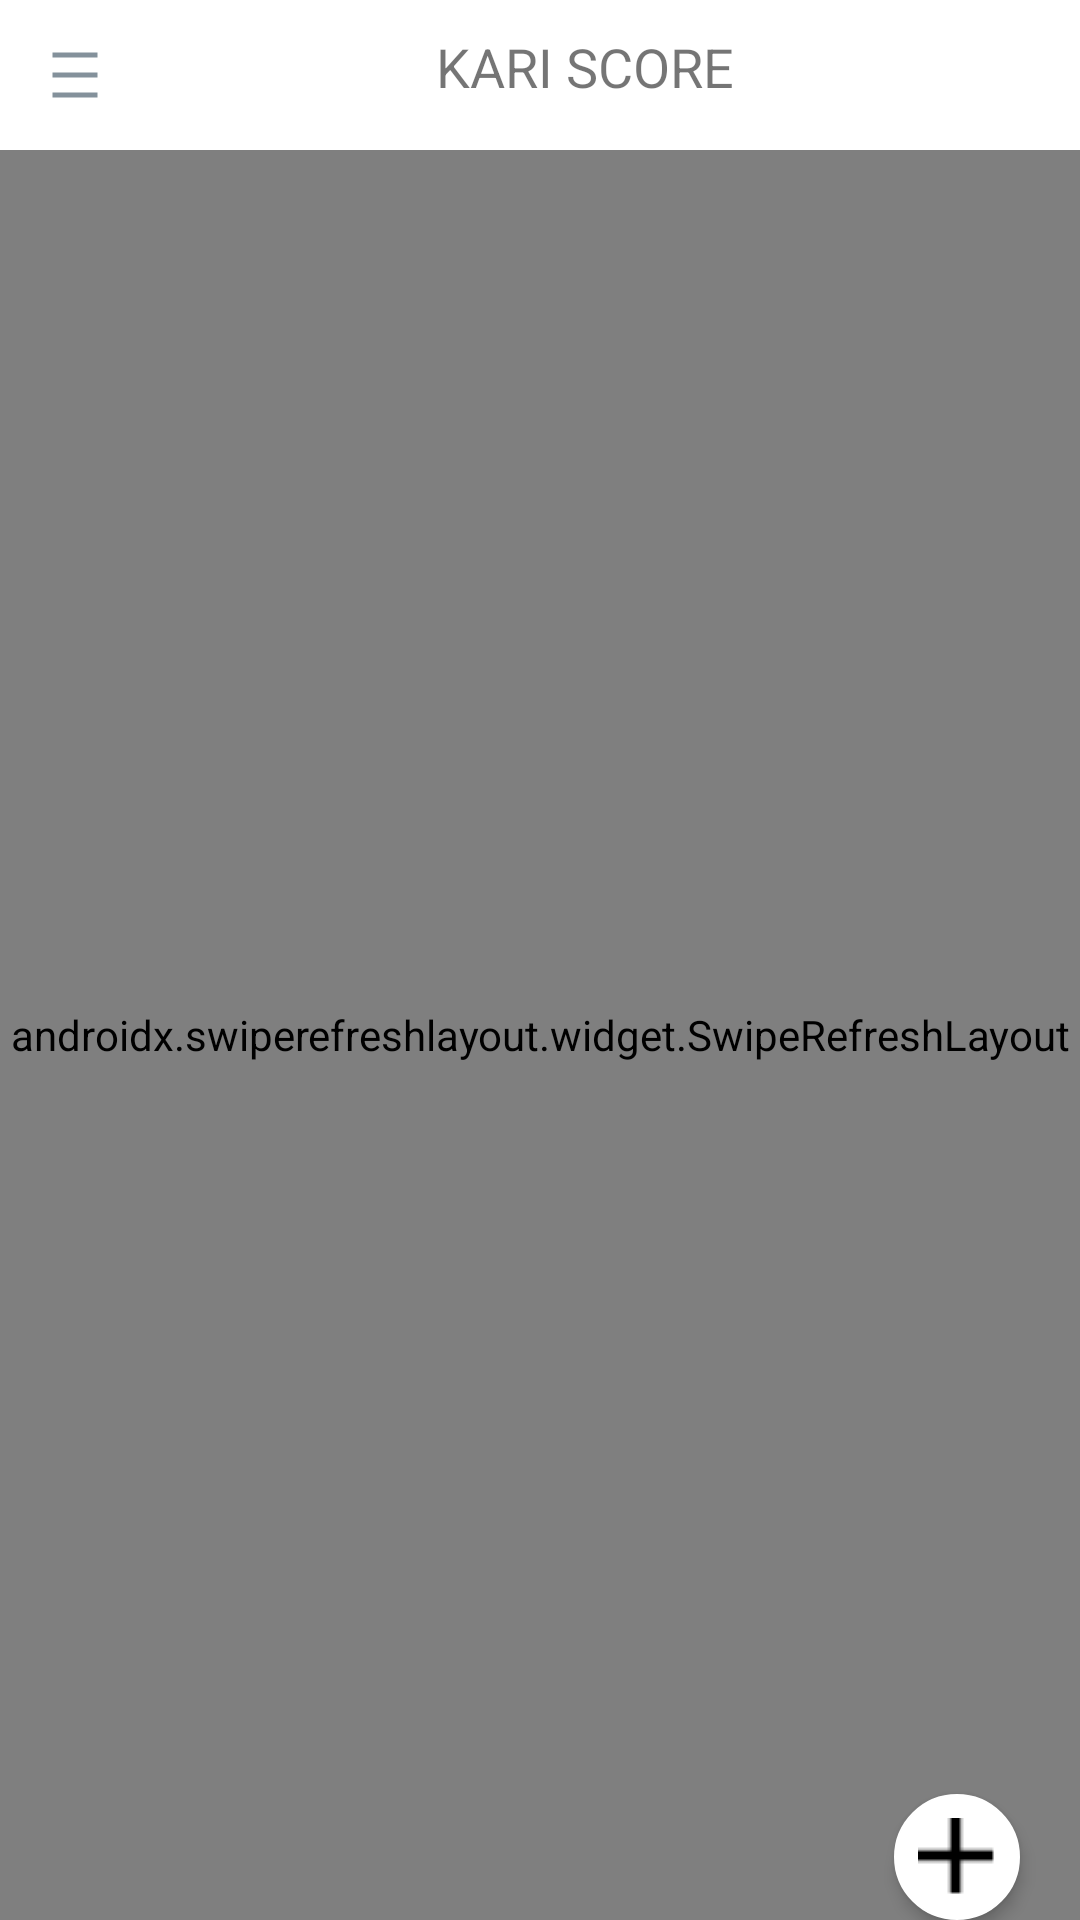

Icons on this 1080w x 1920h Android screen, each with its box as (x1, y1, x2, y2):
add: (894, 1794, 1020, 1920)
density medium: (52, 52, 98, 98)
